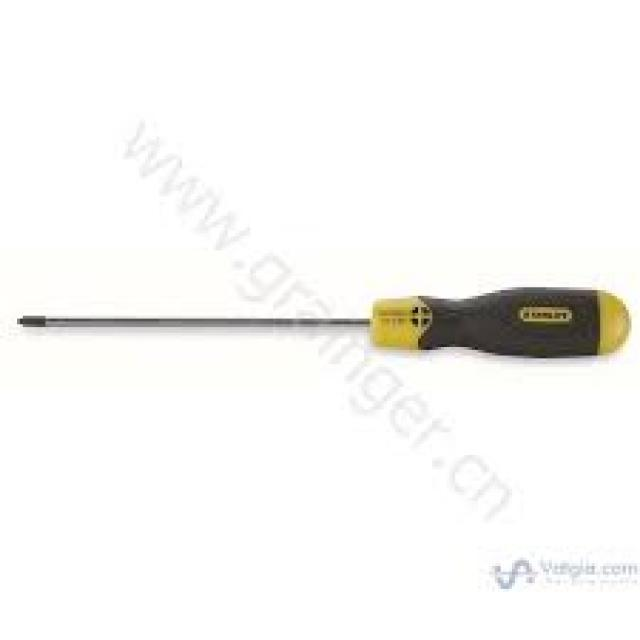screwdriver: (7, 286, 630, 360)
